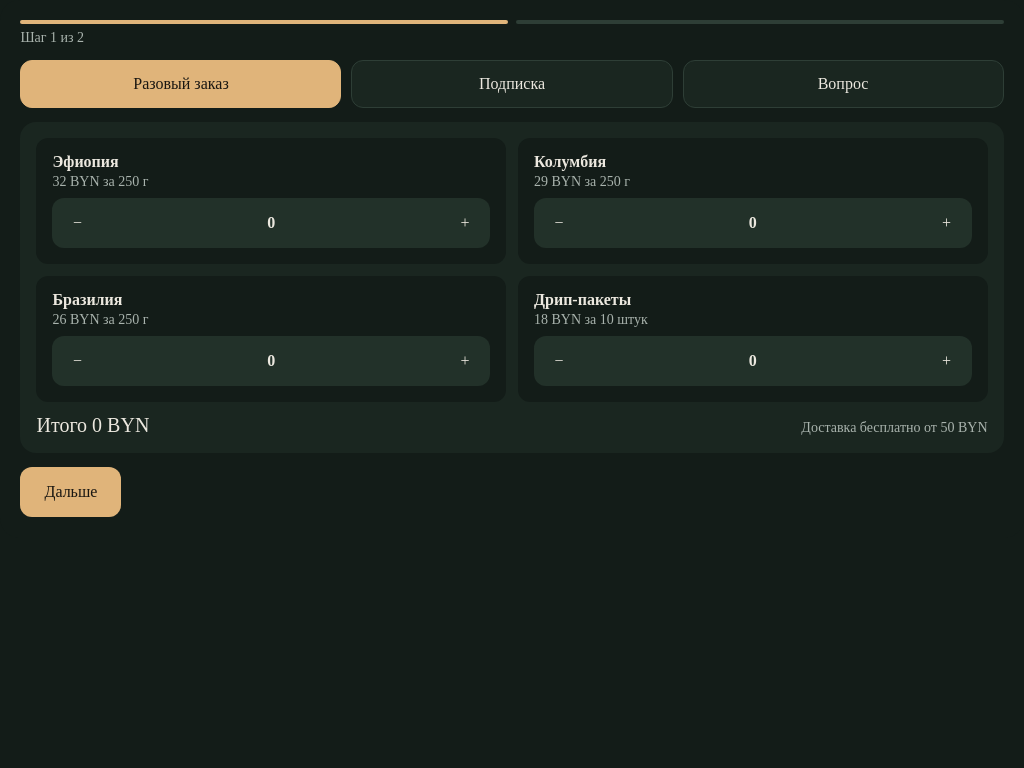
Scenario: отправка › шлёт заказ с источником и ловушкой и благодарит
This screenshot has width=1024, height=768.
Click the button named "Добавить Колумбия Уила" at (946, 224), box [924,202,968,246]
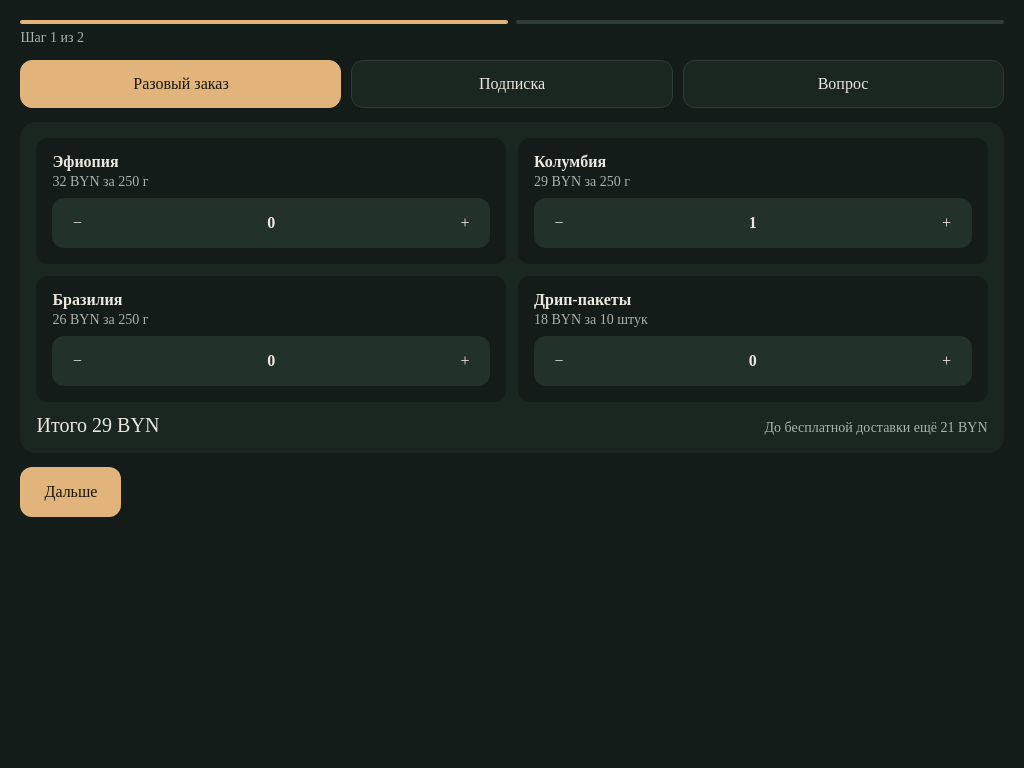
Click the button "Дальше" at (71, 492), box [20,468,121,518]
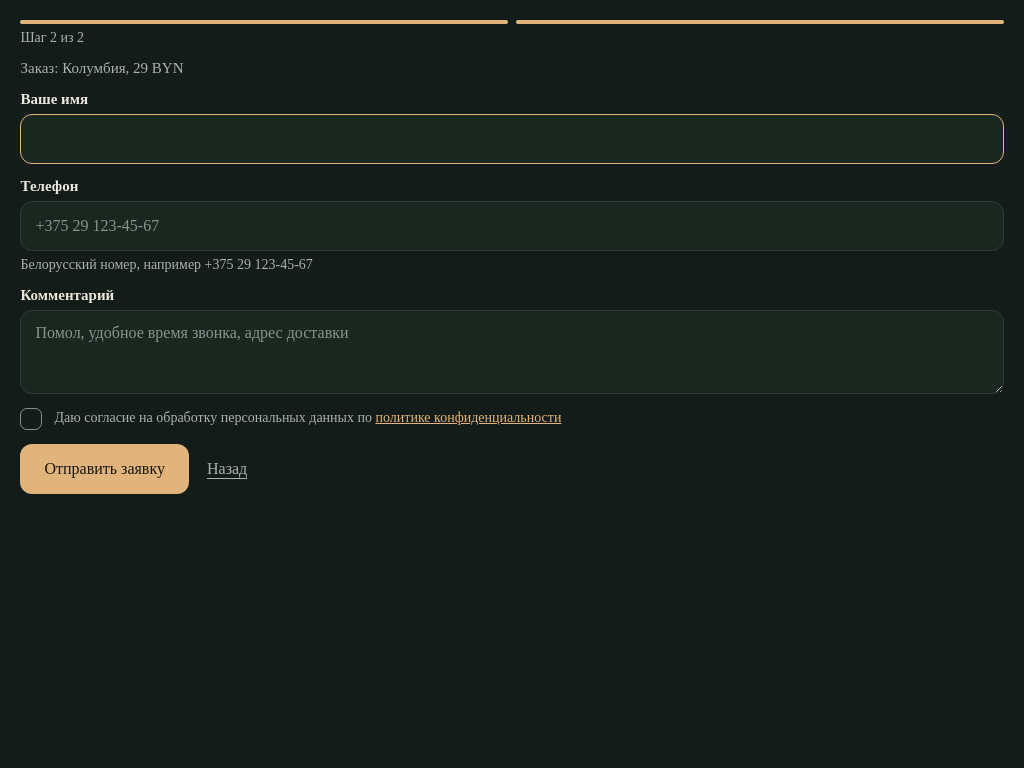
Type "Аня" into the field labelled "Ваше имя" at (512, 140), box [20,114,1004,164]
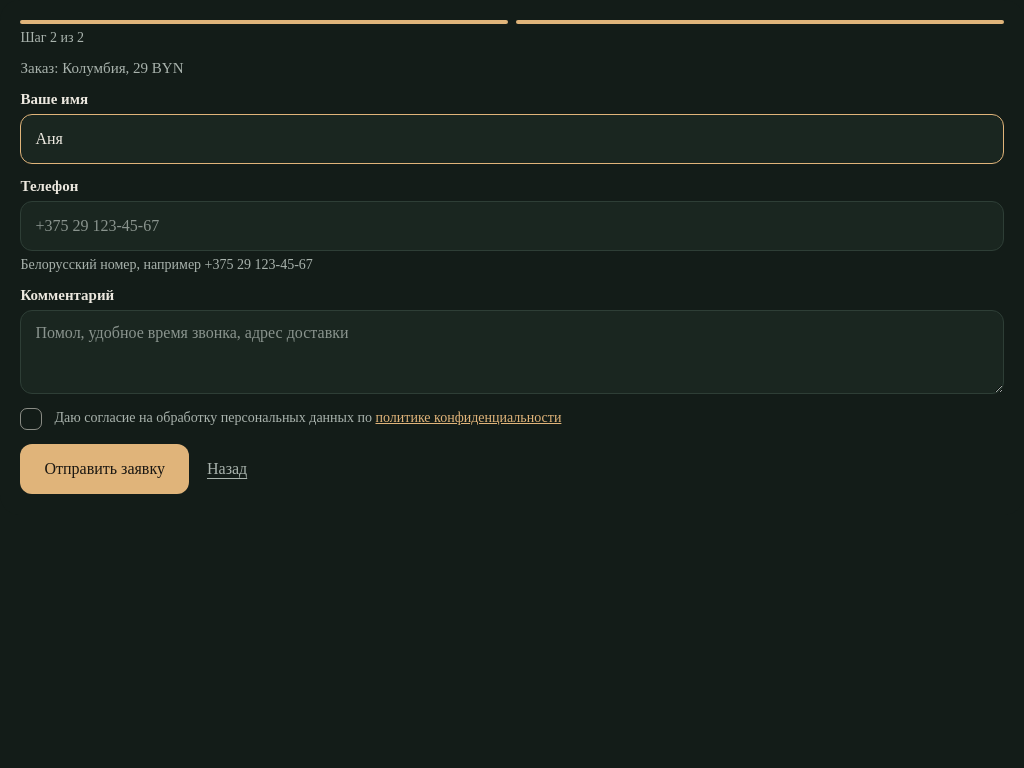
Type "8 029 123 45 67" into the field labelled "Телефон" at (512, 226), box [20,202,1004,252]
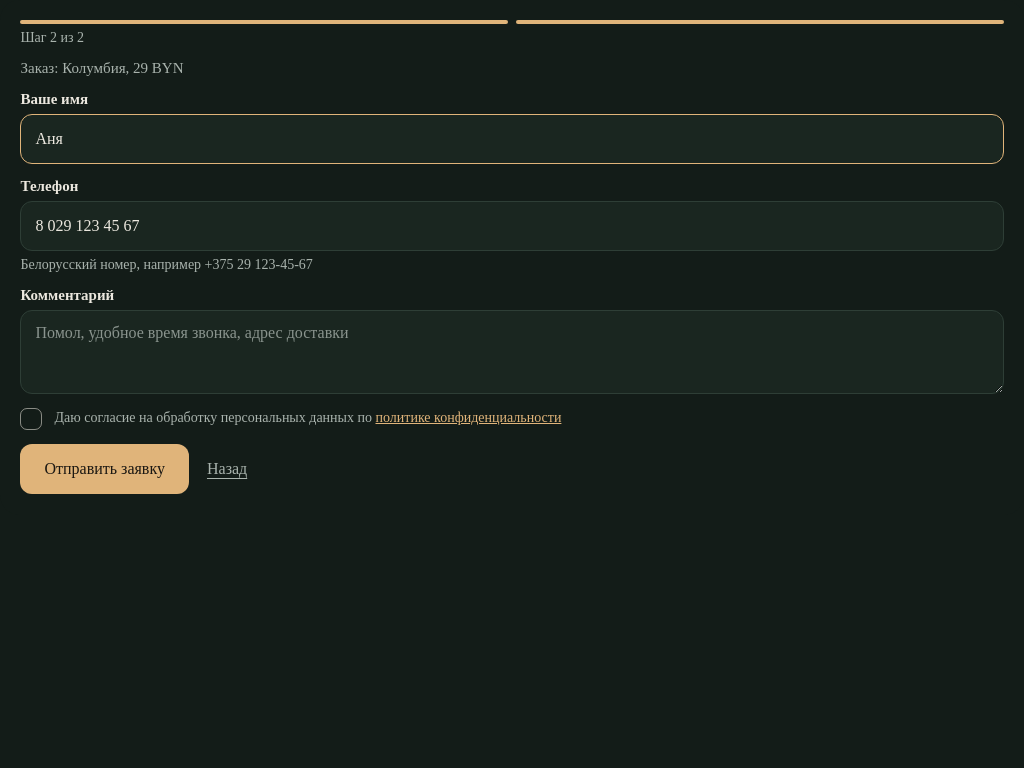
Click the checkbox labelled "согласие" at (32, 420), box [20,408,42,430]
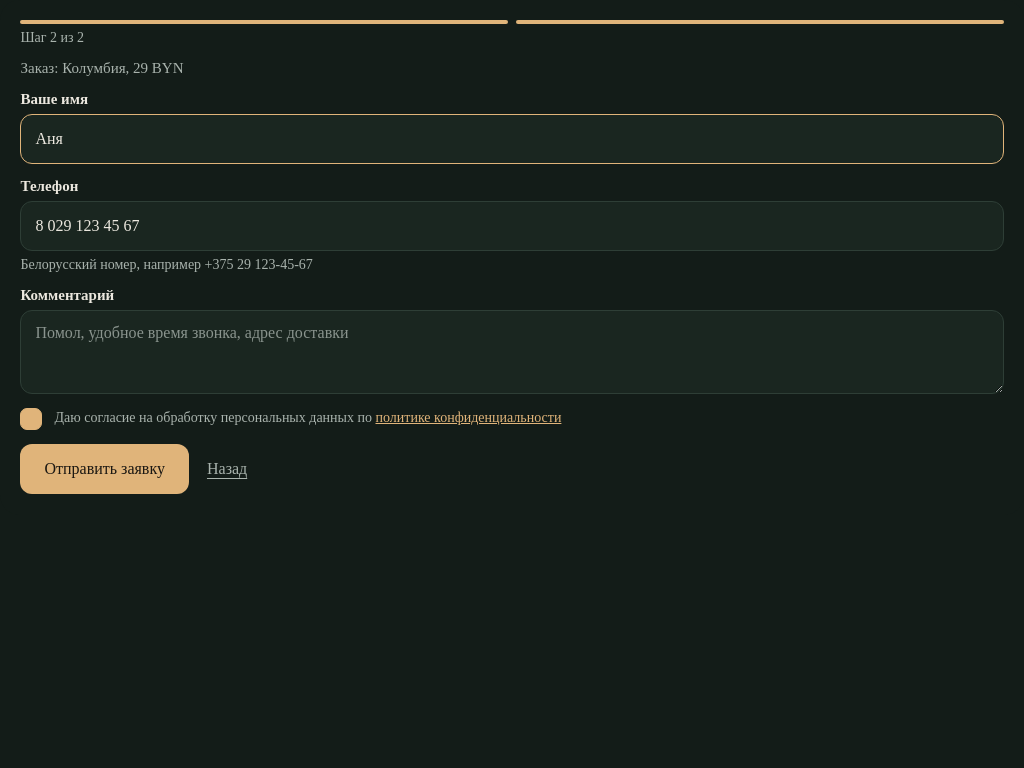
Click the button "Отправить заявку" at (105, 470), box [20,444,189,494]
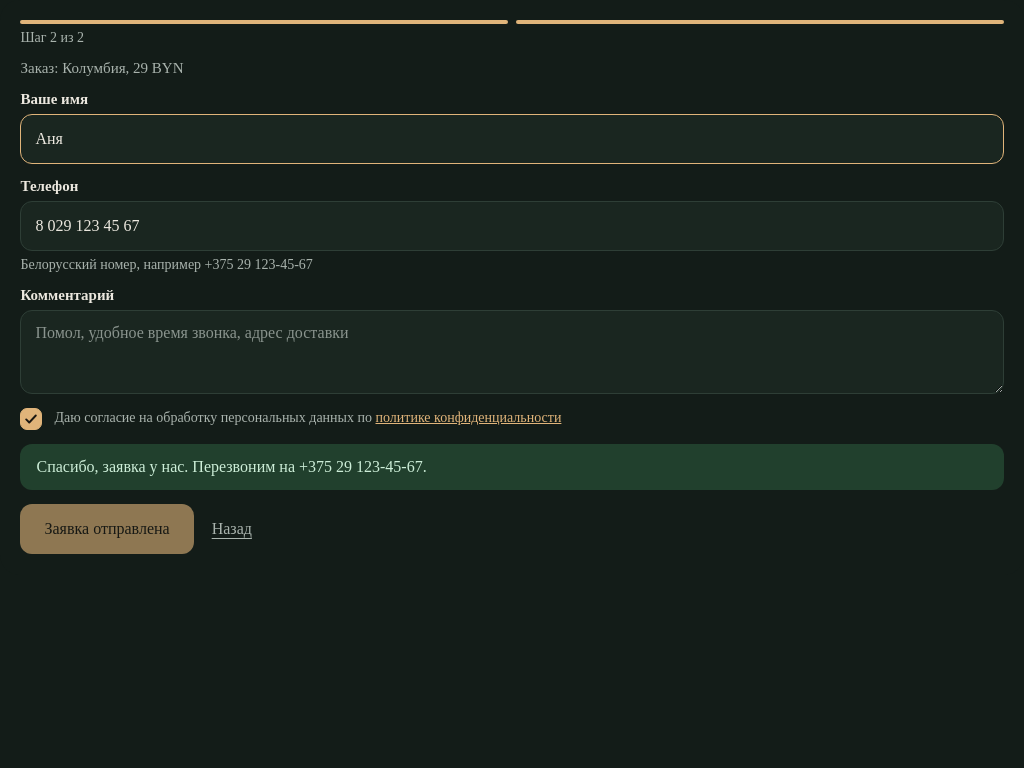
Expected: the message reads "Спасибо, заявка у нас. Перезвоним на +375 29 123-45-67.", [36,458,427,476]
Expected: the button "Заявка отправлена" is disabled, [20,504,194,554]
